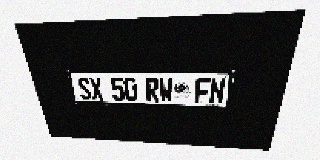0: (123, 77, 138, 101)
5: (110, 77, 125, 101)
F: (195, 78, 210, 103)
N: (209, 78, 226, 104)
R: (145, 78, 159, 102)
S: (76, 77, 92, 100)
W: (159, 78, 173, 102)
X: (88, 77, 104, 100)
